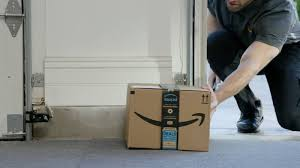package: (122, 82, 210, 153)
